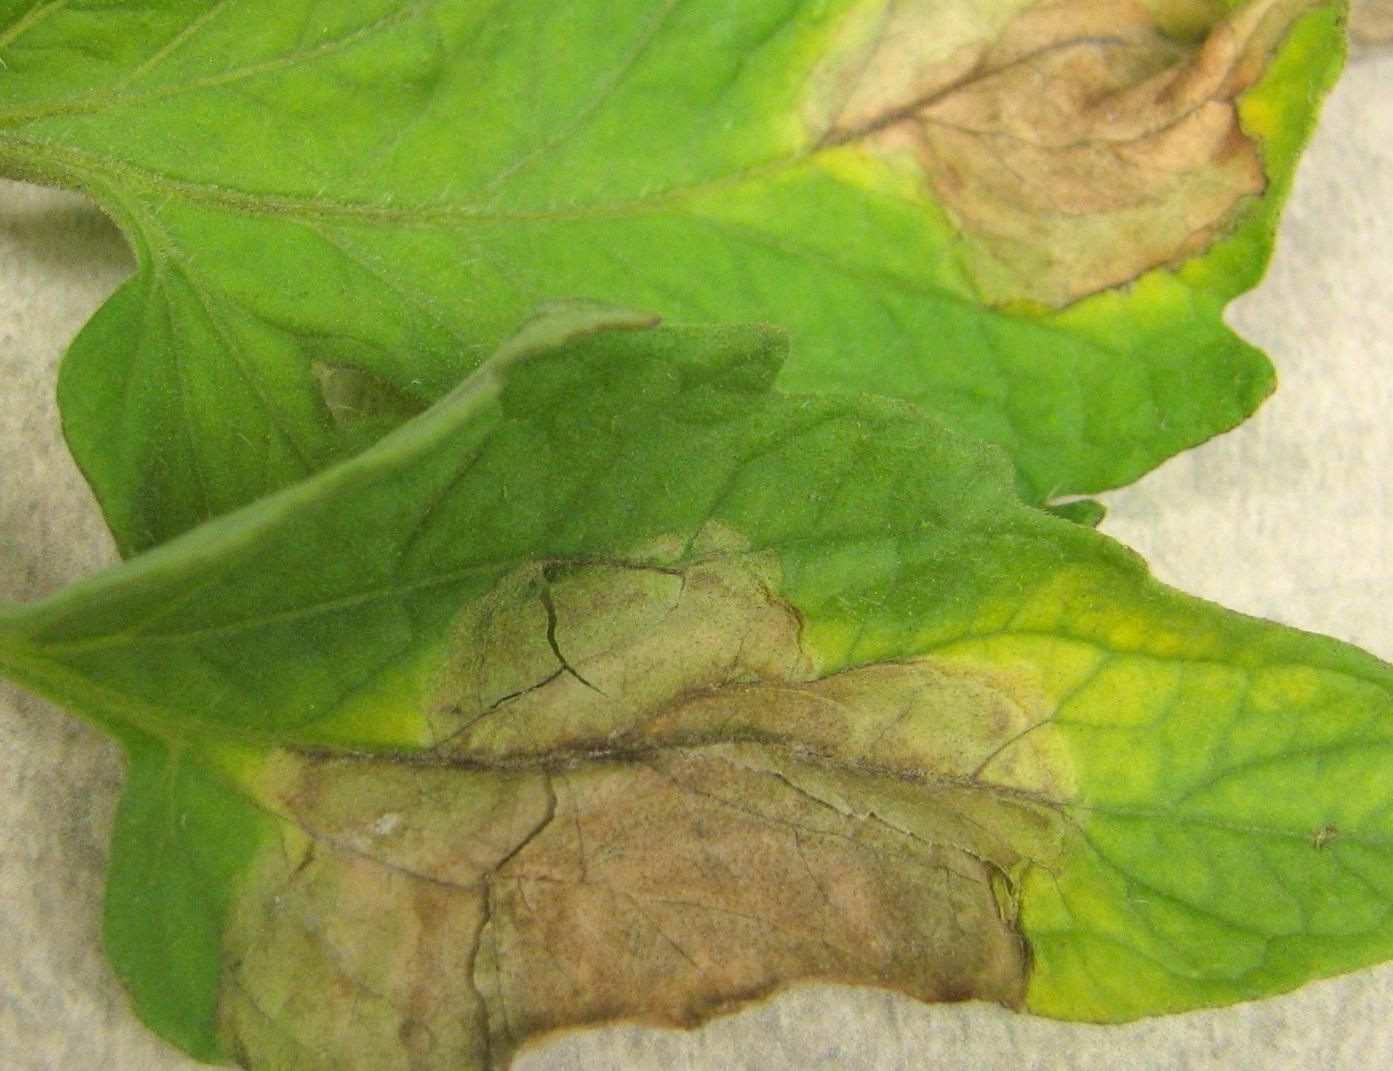Tomato leaf late blight: (0, 324, 1393, 1071), (0, 0, 1393, 443)
